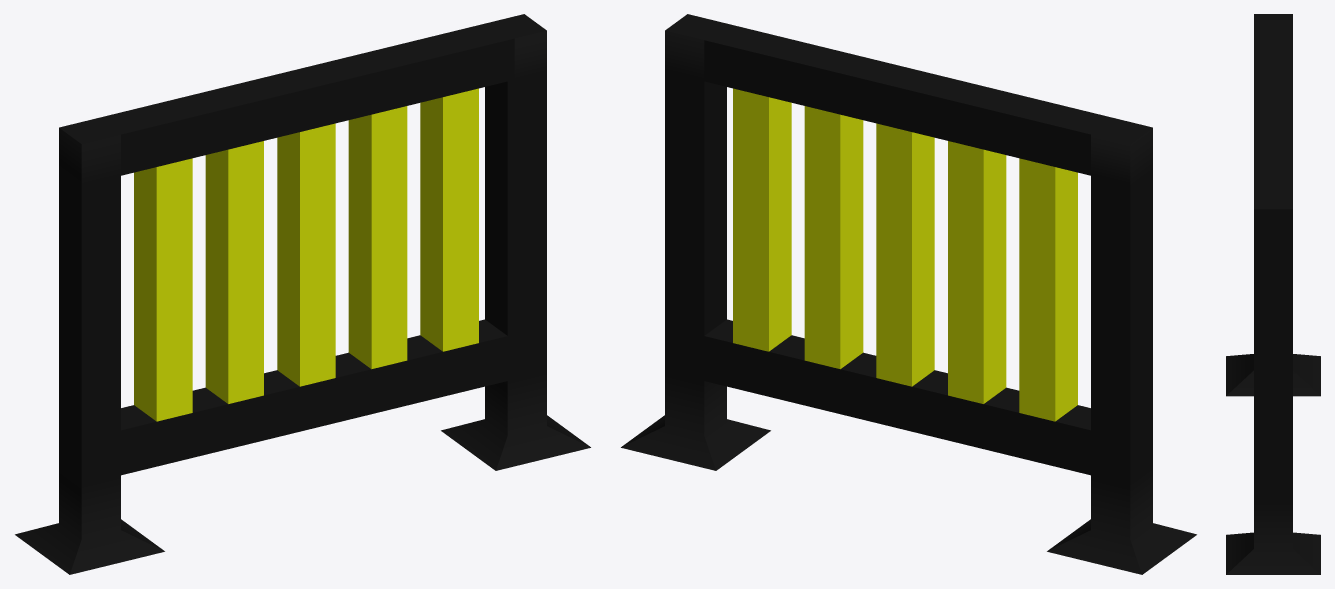
The model's file is black yellow fences.FBX.
3 views of the same model, side by side, from view 1: azimuth 30°, elevation 25°; view 2: azimuth 150°, elevation 25°; view 3: azimuth 270°, elevation 25° (orthographic). The views are drawn at different scales.
Parts seen in each view (by area): view 1: Box048, Box050; view 2: Box048, Box050; view 3: Box050, Box048.
Boxes of the visible parts, x1=… form: Box048: x1=15, y1=22, x2=514, y2=574; Box050: x1=441, y1=14, x2=590, y2=470; Box048: x1=698, y1=22, x2=1196, y2=574; Box050: x1=621, y1=14, x2=770, y2=470; Box050: x1=1226, y1=195, x2=1320, y2=574; Box048: x1=1226, y1=14, x2=1320, y2=396.
Bounding box in the file's own units: 52.19 × 39.37 × 9.57.
